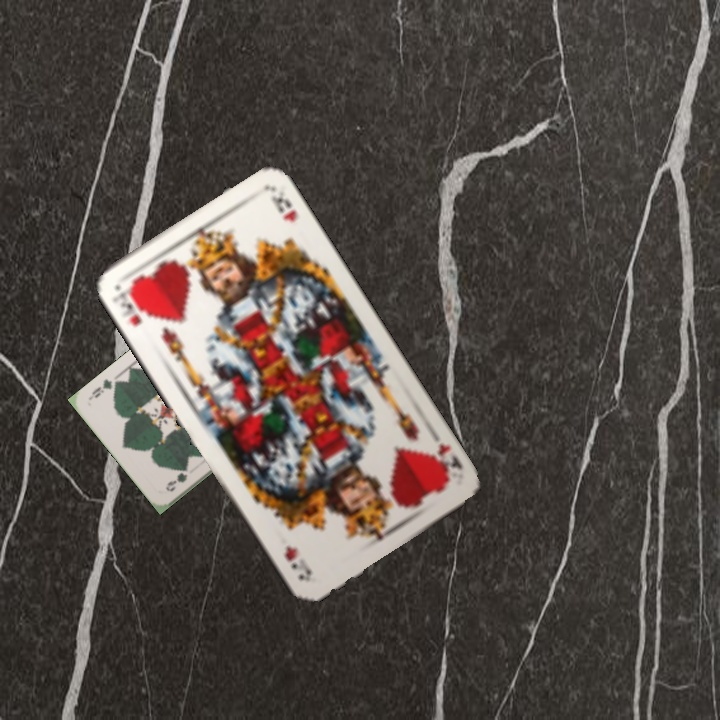G9: (161, 462, 191, 494)
HK: (423, 440, 466, 485), (107, 285, 146, 329)
